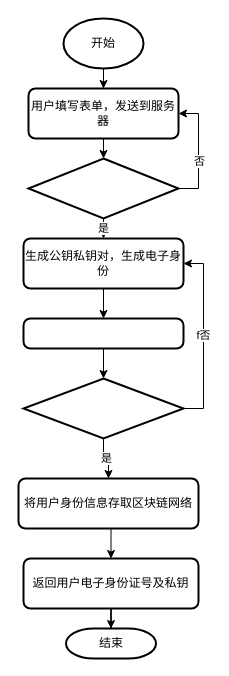
This 229x676 diagram has some shape labels left out. The centre of each missing label's shape, as x and y in pixels:
"服务器校验是否合法" goes at point (103, 188).
"电子身份证号是否唯一" goes at point (103, 408).
"调用注册链码" goes at point (103, 333).
